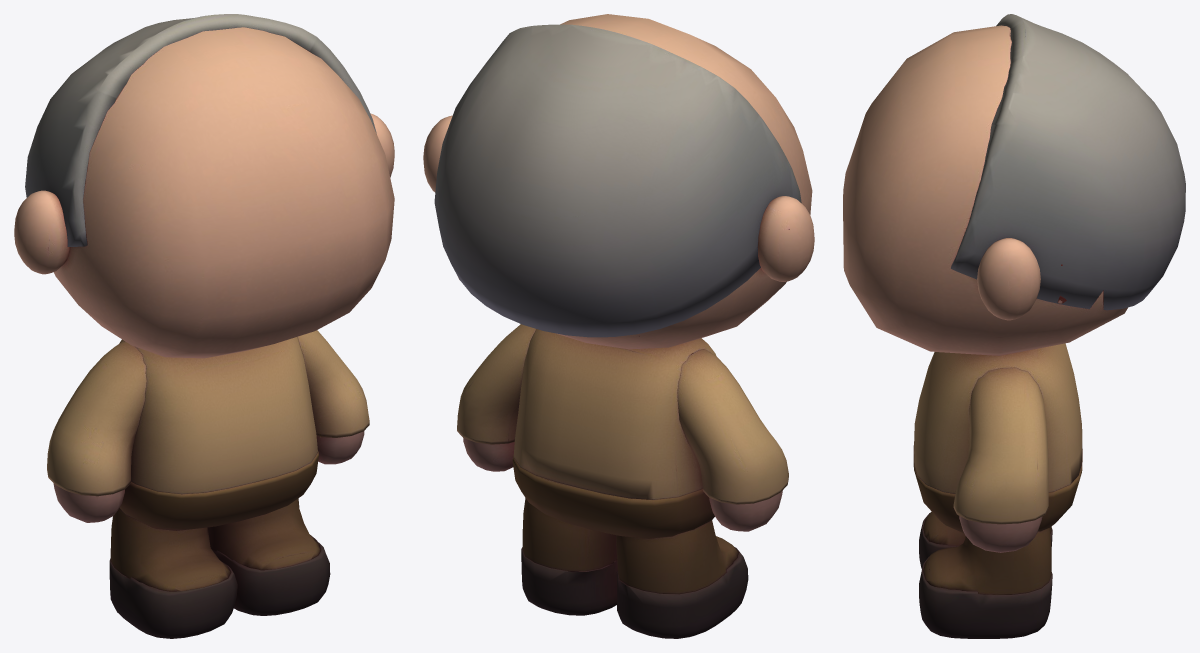
The model's file is npc-mayor.glb.
3 renders of one model, left to right at view 1: azimuth 30°, elevation 25°; view 2: azimuth 150°, elevation 25°; view 3: azimuth 270°, elevation 25°, orthographic. The views are drawn at different scales.
Parts seen in each view (by area): view 1: head_piel, body_camiseta, head_pelo, armL_camiseta, body_pantalon, legL_pantalon, legL_zapatos, legR_pantalon, armR_camiseta, legR_zapatos, armL_piel, armR_piel; view 2: head_pelo, body_camiseta, head_piel, armL_camiseta, body_pantalon, legL_pantalon, legL_zapatos, armR_camiseta, legR_pantalon, legR_zapatos, armL_piel, armR_piel; view 3: head_piel, head_pelo, body_camiseta, armR_camiseta, legR_zapatos, legR_pantalon, body_pantalon, armR_piel, legL_pantalon, legL_zapatos.
Boxes of the visible parts, bbox=[...] form: head_piel: bbox=[14, 27, 394, 358]; body_camiseta: bbox=[119, 336, 317, 494]; head_pelo: bbox=[25, 14, 376, 246]; armL_camiseta: bbox=[47, 341, 146, 496]; body_pantalon: bbox=[119, 451, 318, 530]; legL_pantalon: bbox=[110, 508, 230, 591]; legL_zapatos: bbox=[109, 558, 237, 638]; legR_pantalon: bbox=[207, 498, 320, 570]; armR_camiseta: bbox=[297, 330, 369, 437]; legR_zapatos: bbox=[210, 535, 330, 615]; armL_piel: bbox=[53, 483, 124, 522]; armR_piel: bbox=[316, 431, 364, 464]; head_pelo: bbox=[434, 24, 801, 337]; body_camiseta: bbox=[513, 329, 716, 499]; head_piel: bbox=[423, 14, 814, 349]; armL_camiseta: bbox=[677, 349, 788, 504]; body_pantalon: bbox=[512, 455, 714, 538]; legL_pantalon: bbox=[616, 520, 738, 594]; legL_zapatos: bbox=[616, 547, 748, 638]; armR_camiseta: bbox=[457, 324, 536, 444]; legR_pantalon: bbox=[522, 498, 617, 571]; legR_zapatos: bbox=[521, 547, 617, 615]; armL_piel: bbox=[709, 490, 782, 531]; armR_piel: bbox=[463, 438, 514, 471]; head_piel: bbox=[843, 25, 1127, 355]; head_pelo: bbox=[951, 14, 1185, 310]; body_camiseta: bbox=[914, 343, 1082, 493]; armR_camiseta: bbox=[953, 367, 1048, 524]; legR_zapatos: bbox=[919, 557, 1052, 638]; legR_pantalon: bbox=[923, 528, 1051, 594]; body_pantalon: bbox=[913, 441, 1082, 533]; armR_piel: bbox=[959, 516, 1042, 552]; legL_pantalon: bbox=[923, 511, 1051, 545]; legL_zapatos: bbox=[919, 513, 1052, 568].
Bounding box in the file's own units: 2.93 × 4.32 × 2.36.
Materials: 5 (5 with a texture image).
